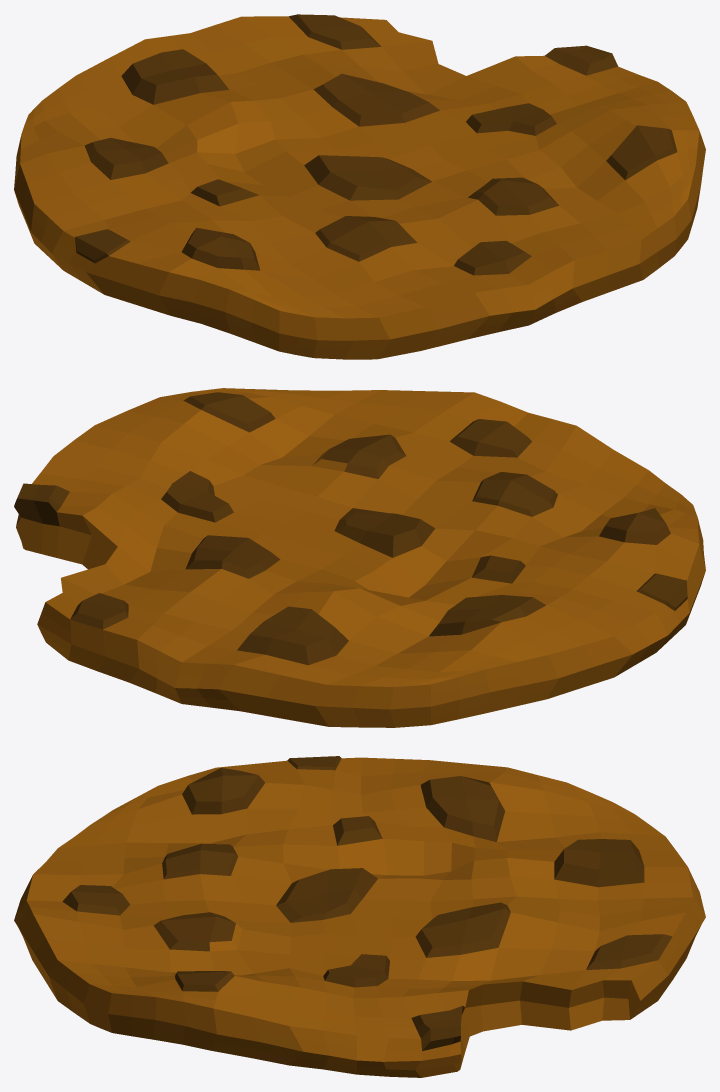
Rendered from Cookie_1.1_blend.fbx.
3 renders of one model, top to bottom at view 1: azimuth 30°, elevation 25°; view 2: azimuth 150°, elevation 25°; view 3: azimuth 270°, elevation 25°, orthographic. The views are drawn at different scales.
Visible parts, largest first — view 1: Plane; view 2: Plane; view 3: Plane.
Boxes of the visible parts, box(x1,y1,x2,y2) form: Plane: box(14, 14, 705, 359); Plane: box(14, 388, 705, 727); Plane: box(14, 756, 705, 1077).
Bounding box in the file's own units: 207 × 31.12 × 205.
